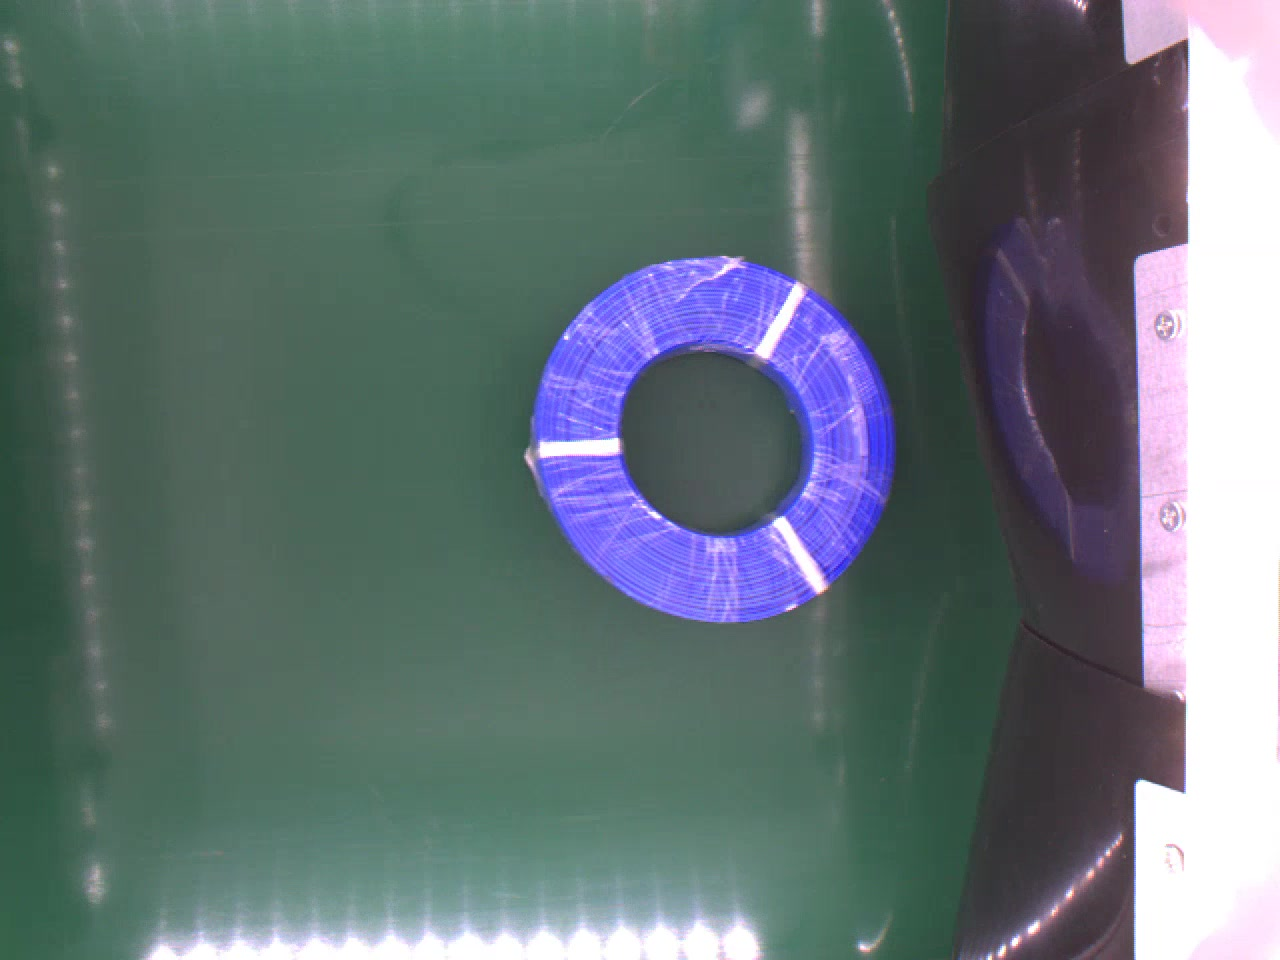blue: (525, 248, 895, 621)
